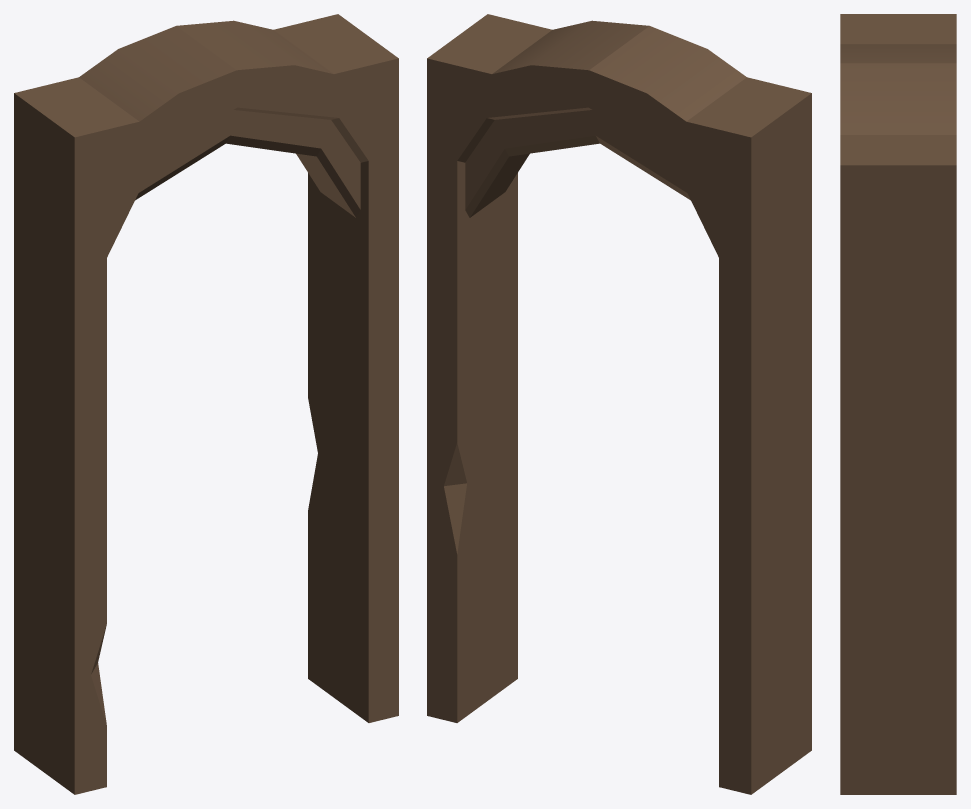
The model's file is SM_Bld_Village_Door_02.fbx.
3 views of the same model, side by side, from view 1: azimuth 30°, elevation 25°; view 2: azimuth 150°, elevation 25°; view 3: azimuth 270°, elevation 25° (orthographic). The views are drawn at different scales.
Parts seen in each view (by area): view 1: SM_Bld_Village_Door_02; view 2: SM_Bld_Village_Door_02; view 3: SM_Bld_Village_Door_02.
Boxes of the visible parts, left/top/right/bottom form: SM_Bld_Village_Door_02: left=14, top=14, right=398, bottom=794; SM_Bld_Village_Door_02: left=427, top=14, right=811, bottom=794; SM_Bld_Village_Door_02: left=840, top=14, right=956, bottom=794.
Bounding box in the file's own units: 127 × 257 × 41.19.
